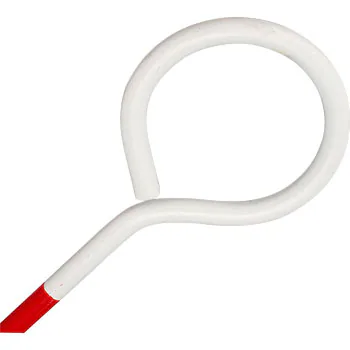poll: (0, 0, 341, 341)
